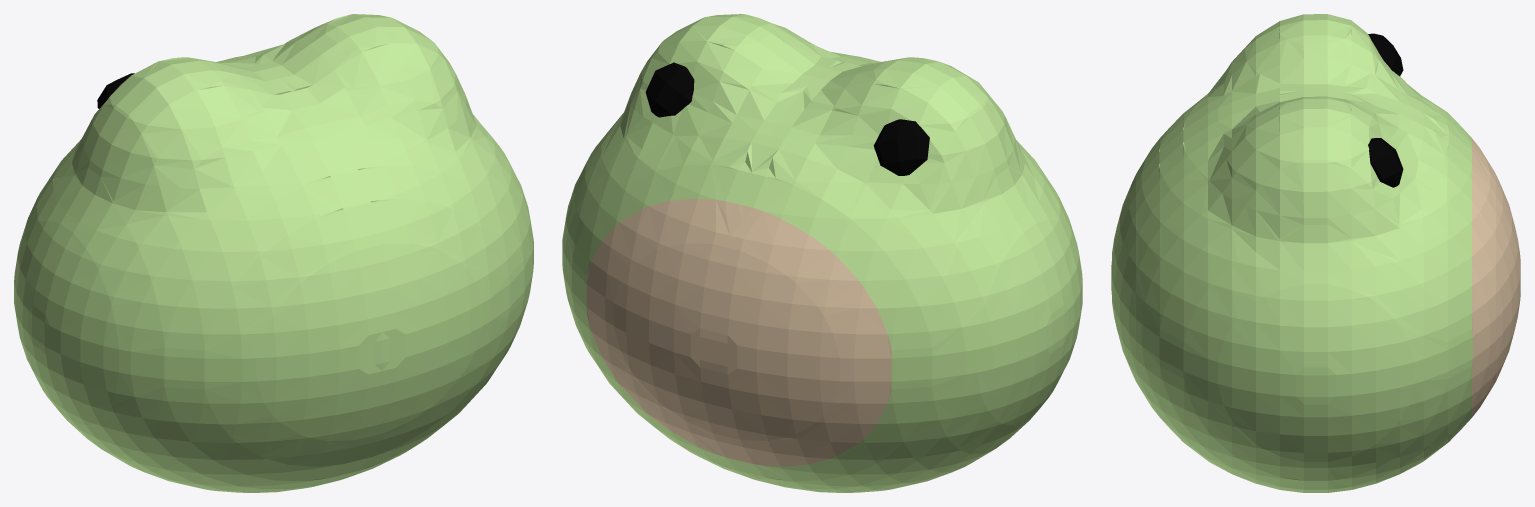
File: froggo.glb
3 views of the same model, side by side, from view 1: azimuth 30°, elevation 25°; view 2: azimuth 150°, elevation 25°; view 3: azimuth 270°, elevation 25° (orthographic). The views are drawn at different scales.
Parts seen in each view (by area): view 1: Mball.008; view 2: Mball.008; view 3: Mball.008.
Boxes of the visible parts, <box> form: Mball.008: <box>14,14,533,492</box>; Mball.008: <box>562,14,1082,492</box>; Mball.008: <box>1111,14,1520,492</box>.
Bounding box in the file's own units: 2.38 × 2.05 × 1.91.
